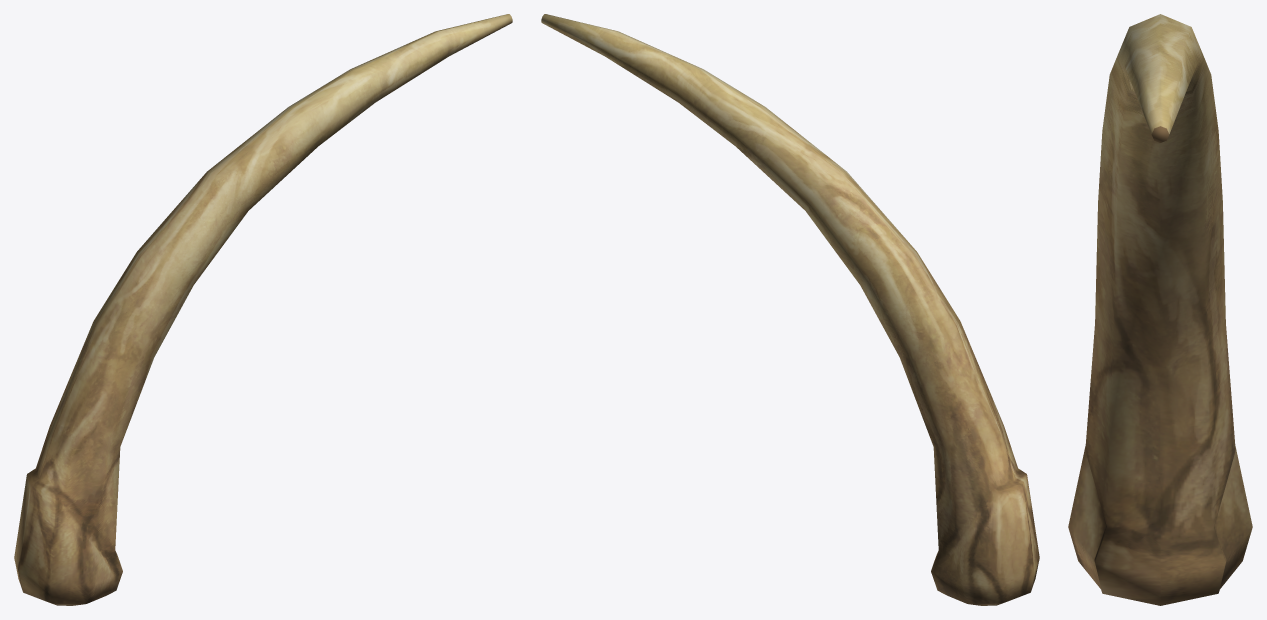
Rendered from rib.FBX.
3 views of the same model, side by side, from view 1: azimuth 30°, elevation 25°; view 2: azimuth 150°, elevation 25°; view 3: azimuth 270°, elevation 25° (orthographic). The views are drawn at different scales.
Visible parts, largest first — view 1: Object002; view 2: Object002; view 3: Object002.
Boxes of the visible parts, x1,y1,x2,y2 form: Object002: (14, 14, 512, 605); Object002: (541, 14, 1039, 605); Object002: (1068, 14, 1252, 605).
Size of the model in its own units: 4.17 by 3.86 by 0.767.
